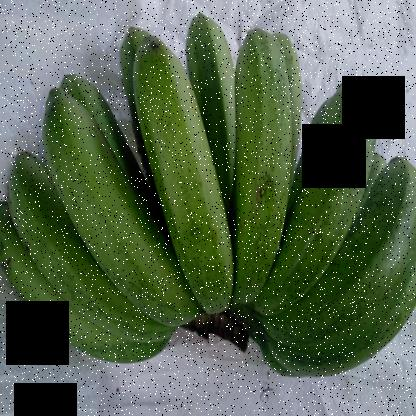unripe: (29, 49, 184, 332), (127, 20, 228, 337), (276, 60, 381, 362), (215, 11, 311, 324), (299, 135, 416, 365)
